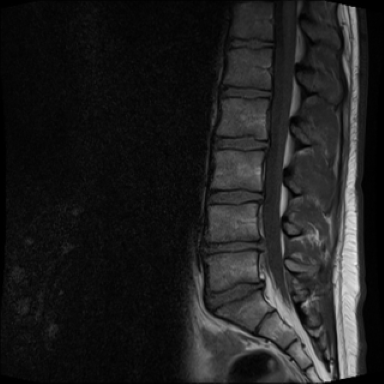Lumbar Disc Bulge (LDB): (192, 270, 269, 317), (190, 224, 273, 261)
Normal IVD: (208, 126, 270, 154), (203, 186, 267, 207), (216, 79, 273, 102), (221, 33, 277, 51)
